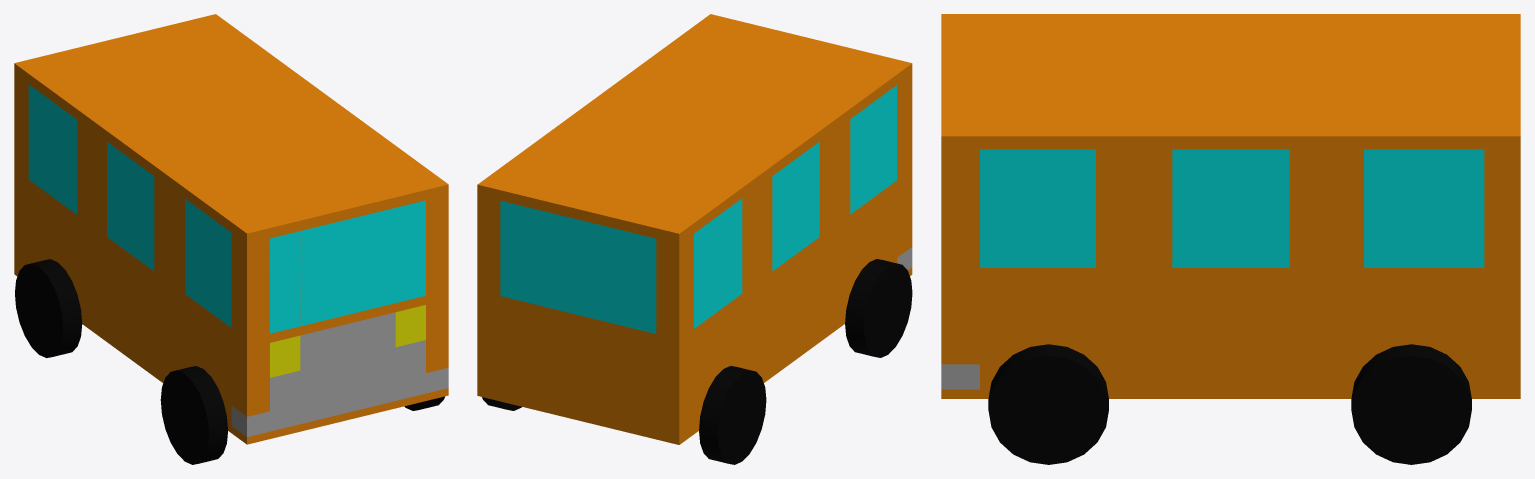
File: Bus.fbx
3 views of the same model, side by side, from view 1: azimuth 30°, elevation 25°; view 2: azimuth 150°, elevation 25°; view 3: azimuth 270°, elevation 25° (orthographic). The views are drawn at different scales.
Visible parts, largest first — view 1: Body, Wheel4, Wheel1; view 2: Body, Wheel1, Wheel4; view 3: Body, Wheel3, Wheel2.
Boxes of the visible parts, x1=… form: Body: x1=14, y1=14, x2=448, y2=444; Wheel4: x1=160, y1=366, x2=227, y2=464; Wheel1: x1=15, y1=259, x2=82, y2=357; Body: x1=477, y1=14, x2=912, y2=444; Wheel1: x1=699, y1=366, x2=766, y2=464; Wheel4: x1=845, y1=259, x2=912, y2=357; Body: x1=941, y1=14, x2=1520, y2=398; Wheel3: x1=988, y1=344, x2=1108, y2=464; Wheel2: x1=1351, y1=344, x2=1471, y2=464.
Bounding box in the file's own units: 4.75 × 4.83 × 8.
